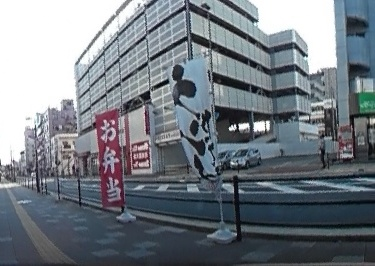person: (318, 133, 327, 166)
